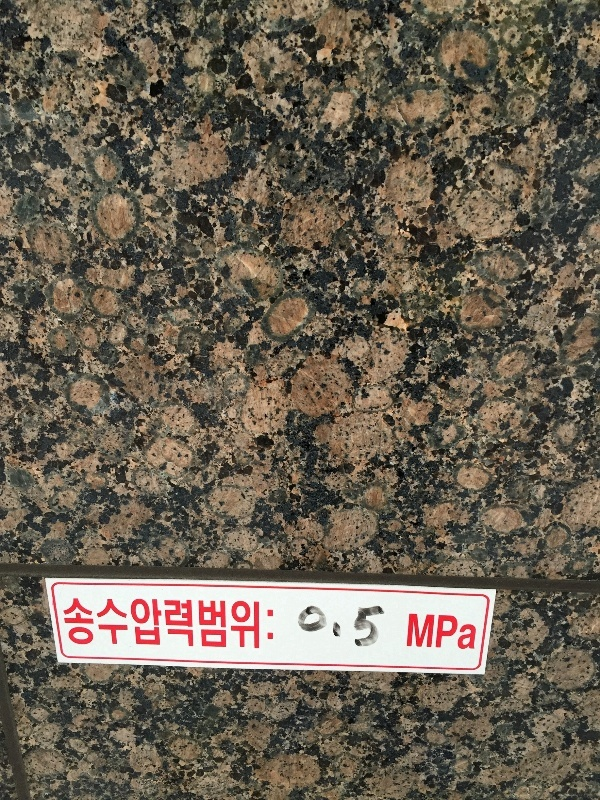text: (65, 599, 80, 655), (81, 599, 96, 655), (97, 599, 112, 655), (113, 599, 128, 655), (129, 599, 144, 655), (145, 599, 160, 655), (161, 599, 176, 655), (177, 599, 192, 655), (193, 599, 208, 655), (209, 599, 224, 655), (225, 599, 240, 655), (241, 599, 256, 655), (257, 599, 272, 655), (369, 599, 385, 651), (305, 599, 320, 651), (321, 599, 336, 651), (337, 599, 352, 651), (353, 599, 368, 651), (417, 613, 432, 654), (433, 613, 448, 654), (449, 613, 464, 654), (465, 613, 480, 654), (297, 599, 304, 651), (409, 613, 416, 654), (60, 599, 64, 655), (273, 599, 275, 655)
